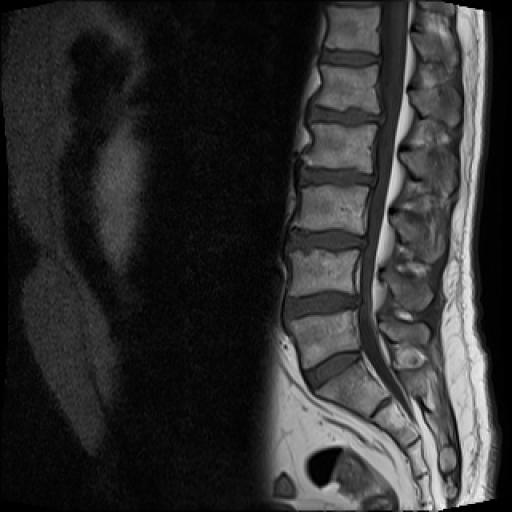L1: (316, 64, 379, 114)
L2: (302, 125, 376, 174)
L3: (294, 187, 368, 234)
L4: (287, 250, 360, 296)
L5: (286, 310, 360, 368)
S1: (316, 360, 391, 418)
